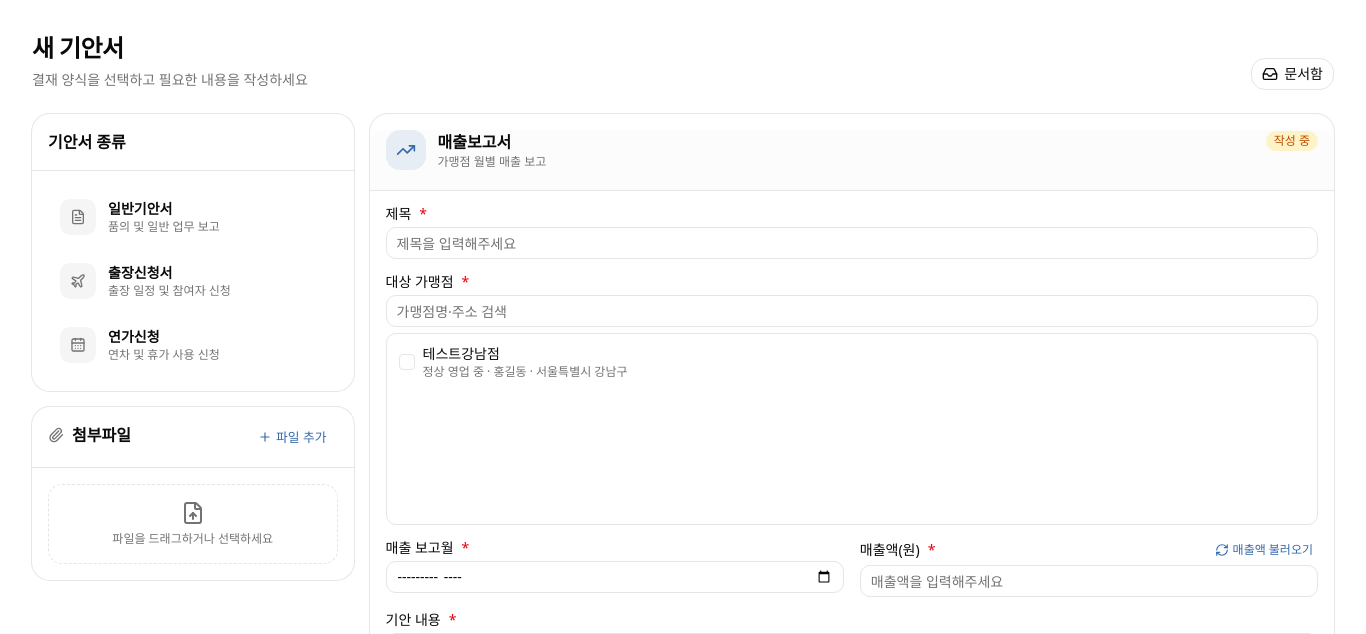
Scenario: SalesDraftCreatePage (F760) - [매출액 불러오기](FRANCHISE_SALES_MONTHLY) › 가맹점·보고월 선택 후 누르면 월 매출 totalSalesAmount가 매출액 필드에 주입되고 성공 토스트가 뜬다
Click the button "테스트강남점 정상 영업 중 · 홍길동 · 서울특별시 강남구".
click(461, 354)  # box [390,338,1313,386]
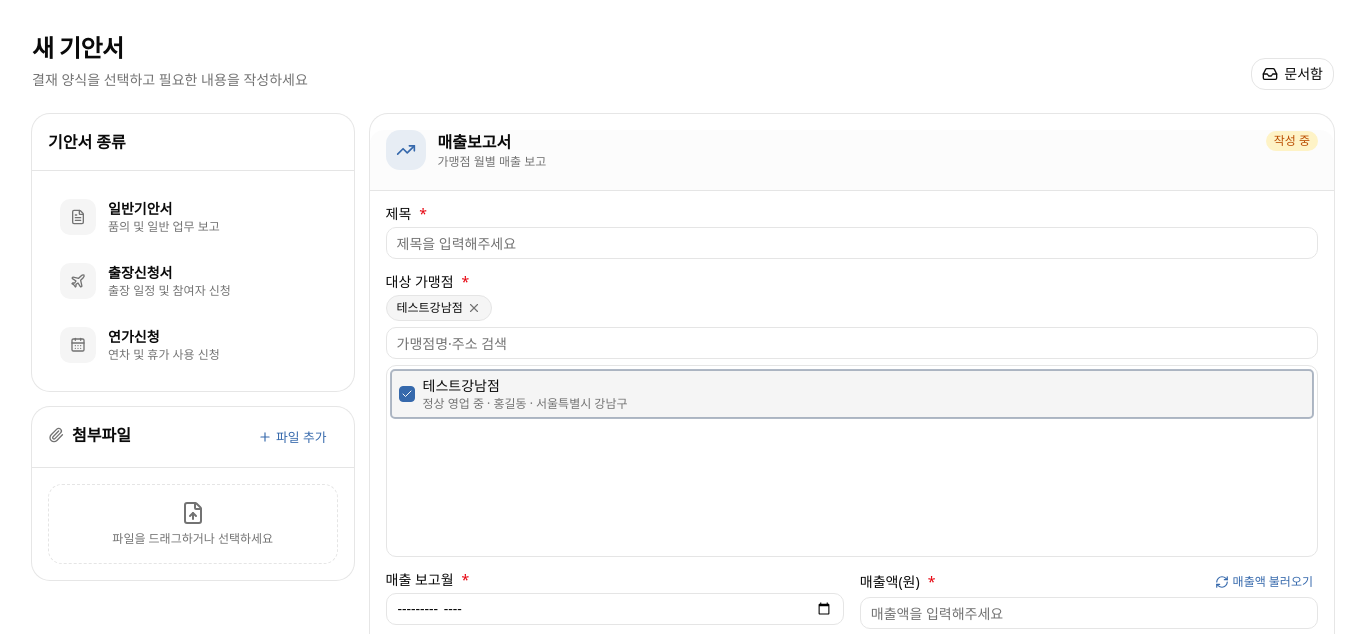
Type "2026-07" into the field labelled "매출 보고월 *".
click(615, 609); type("2026-07")  # box [386,593,844,625]
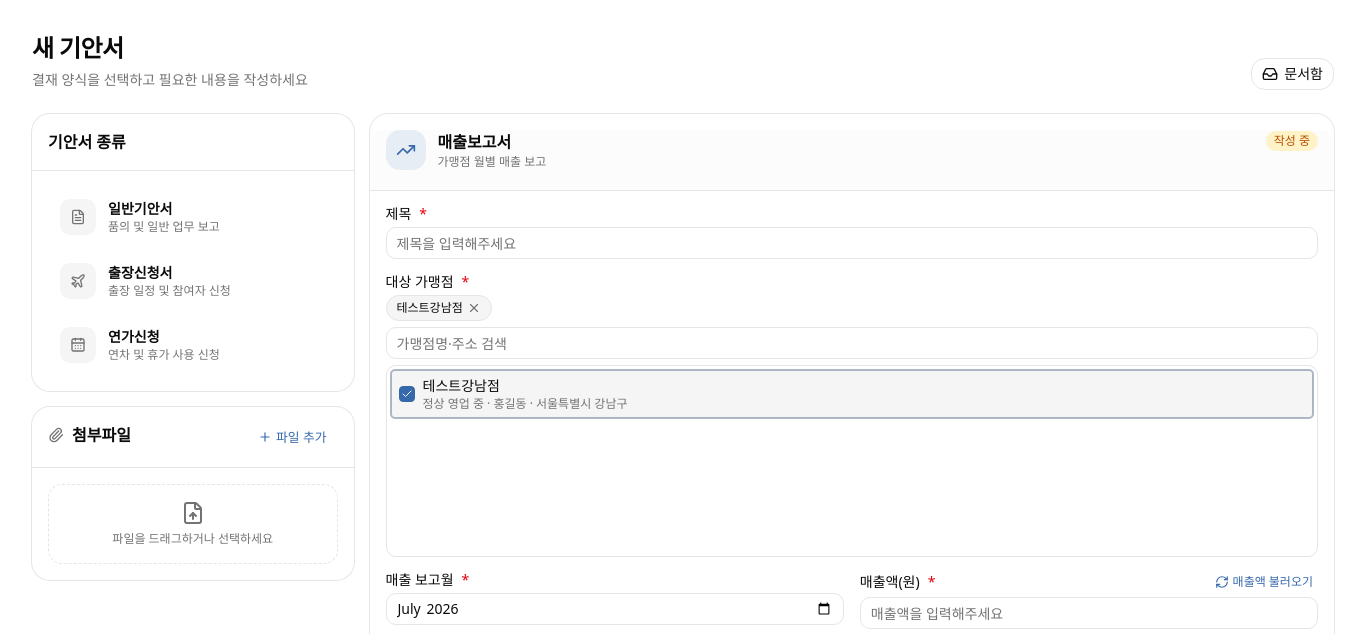
Click the button "매출액 불러오기".
click(1264, 582)  # box [1210,573,1318,591]
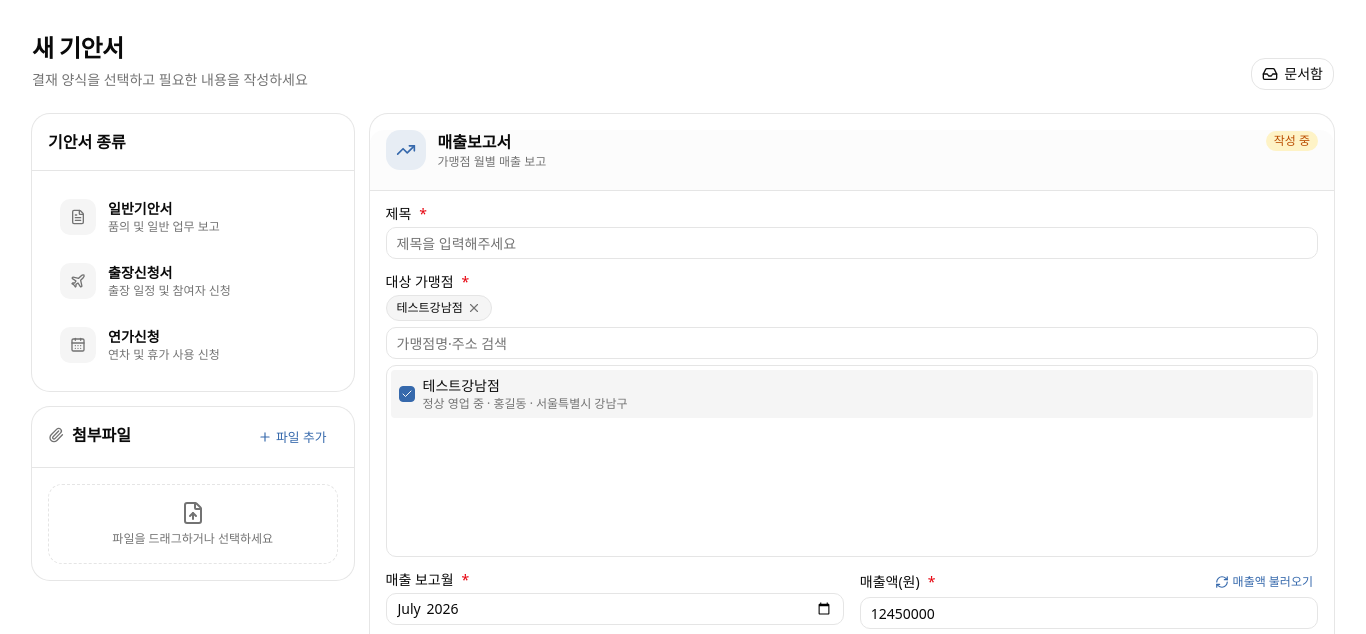
Expected: the number field labelled "매출액(원) *" holds "12450000", [860,597,1318,629]
